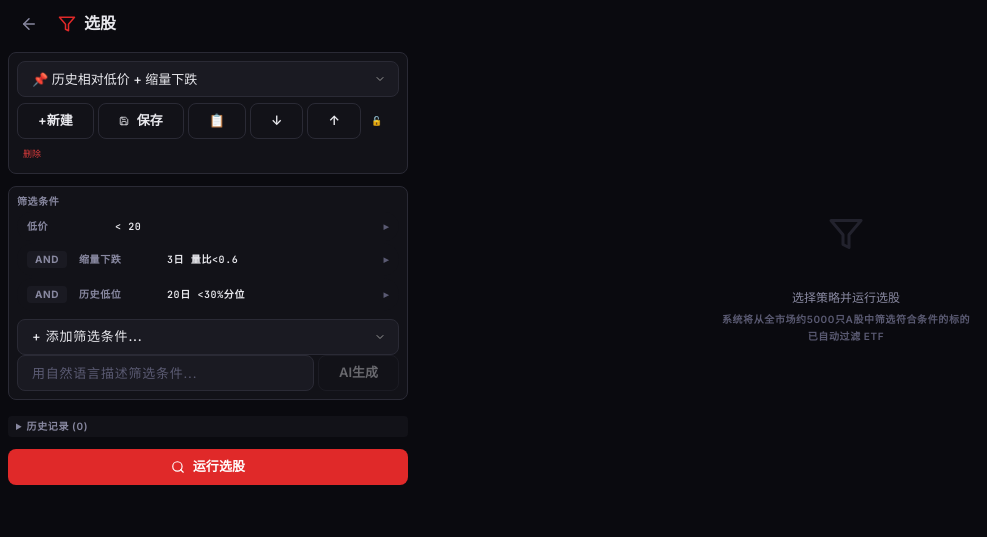
Scenario: ScreenerPage › adds a condition via the add-condition dropdown
Expected: the text "低价" is shown, x1=27 y1=220 x2=48 y2=232
Select "放量 — 成交量超过均量N倍" in the dropdown below "20日 <30%分位". click: (208, 336)
box: x1=17 y1=318 x2=399 y2=354
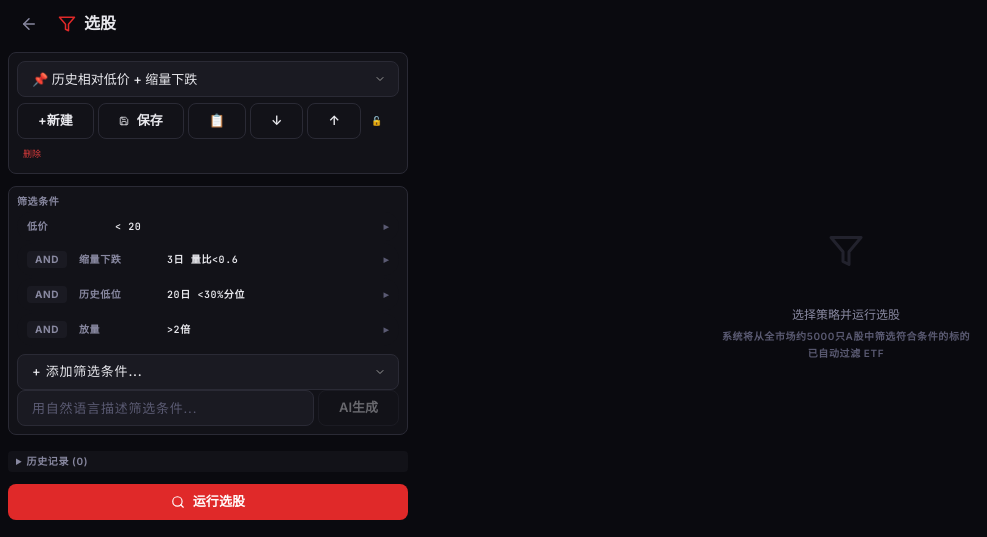
Now the text "放量" is shown, box x1=79 y1=322 x2=100 y2=334
